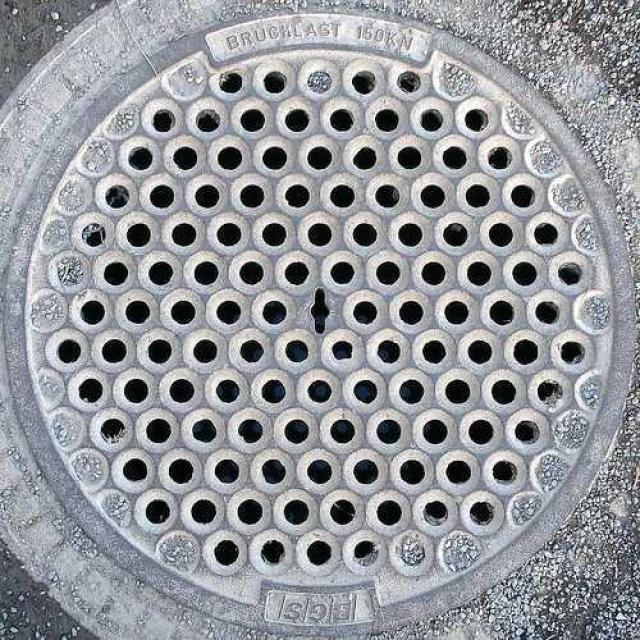manhole: (0, 2, 633, 634)
